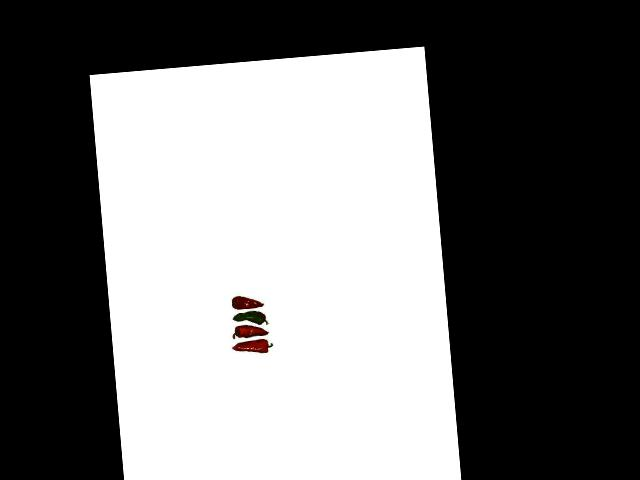bell_pepper: (230, 290, 267, 311)
